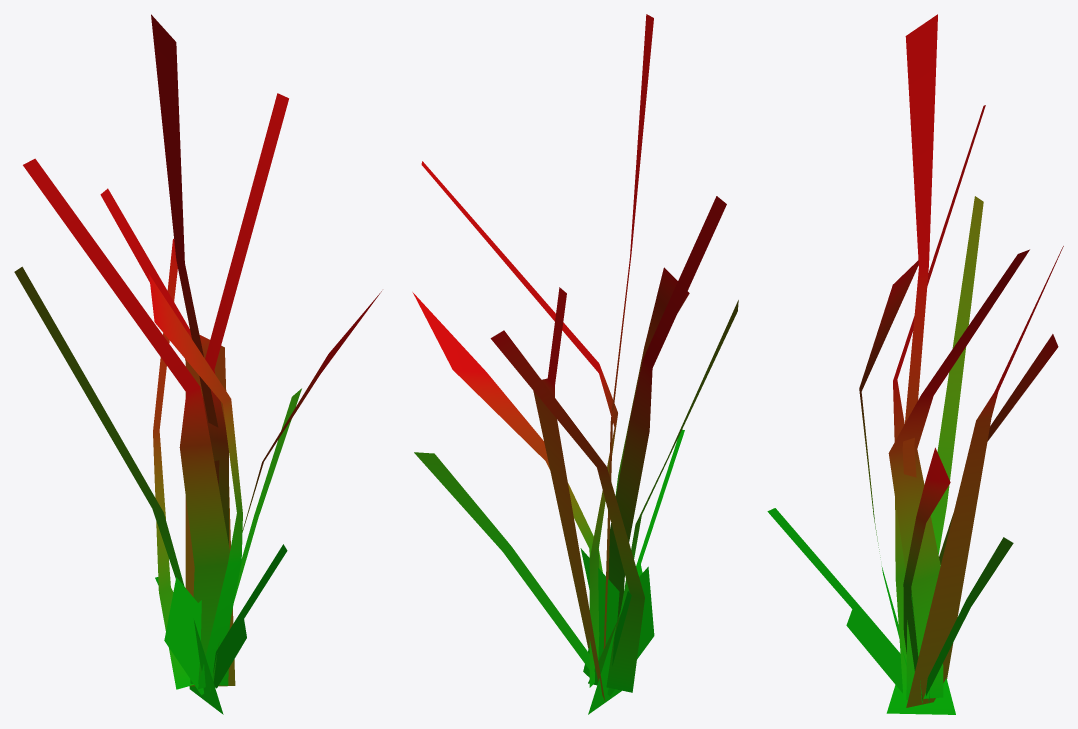
Rendered from scpho_Var2_LOD0.fbx.
3 renders of one model, left to right at view 1: azimuth 30°, elevation 25°; view 2: azimuth 150°, elevation 25°; view 3: azimuth 270°, elevation 25°, orthographic. The views are drawn at different scales.
Visible parts, largest first — view 1: _f942_Var2_LOD0; view 2: _f942_Var2_LOD0; view 3: _f942_Var2_LOD0.
Boxes of the visible parts, x1,y1,x2,y2 form: _f942_Var2_LOD0: (14, 14, 381, 714); _f942_Var2_LOD0: (412, 14, 738, 714); _f942_Var2_LOD0: (767, 14, 1063, 714).
Bounding box in the file's own units: 12.09 × 23.25 × 9.2.
